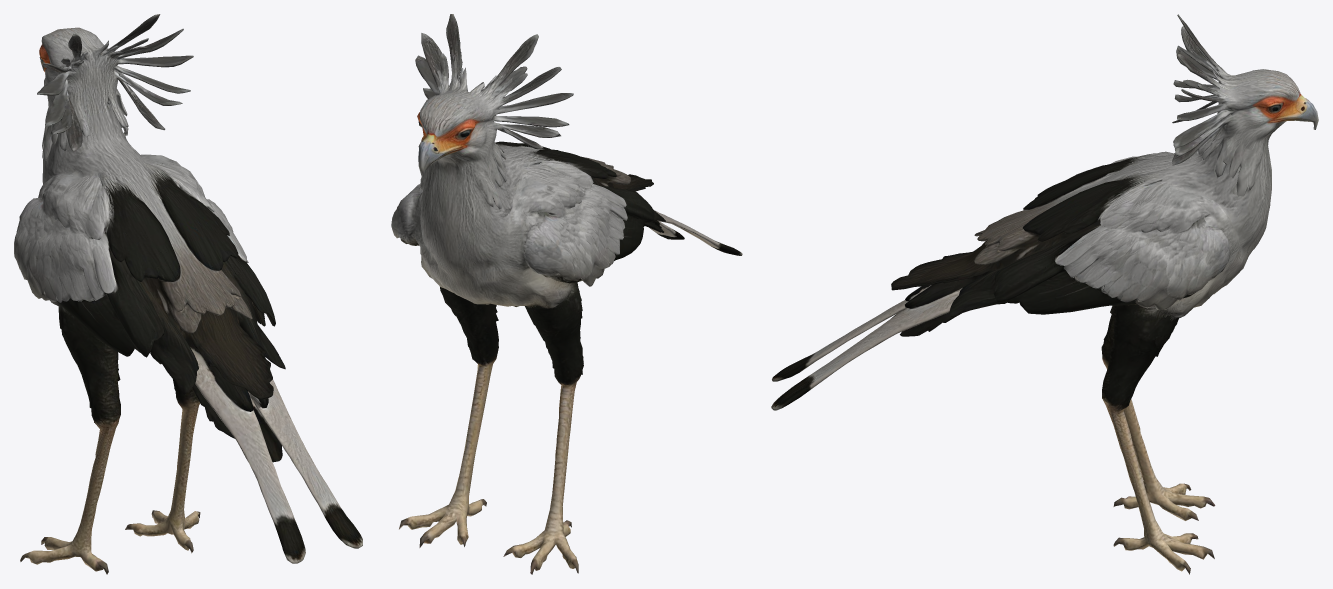
File: secretarybird.glb
The picture shows the model from 3 angles, left to right: view 1: azimuth 30°, elevation 25°; view 2: azimuth 150°, elevation 25°; view 3: azimuth 270°, elevation 25°; orthographic projection. The views are drawn at different scales.
Parts seen in each view (by area): view 1: tripo_node_5add8f97-bd9d-4d60-be5c-771d2848bb05; view 2: tripo_node_5add8f97-bd9d-4d60-be5c-771d2848bb05; view 3: tripo_node_5add8f97-bd9d-4d60-be5c-771d2848bb05.
Boxes of the visible parts, x1,y1,x2,y2 form: tripo_node_5add8f97-bd9d-4d60-be5c-771d2848bb05: (14,14,362,574); tripo_node_5add8f97-bd9d-4d60-be5c-771d2848bb05: (391,14,742,574); tripo_node_5add8f97-bd9d-4d60-be5c-771d2848bb05: (771,14,1318,574).
Size of the model in its own units: 0.3789 by 1 by 0.9931.
Materials: 1 (1 with a texture image).
